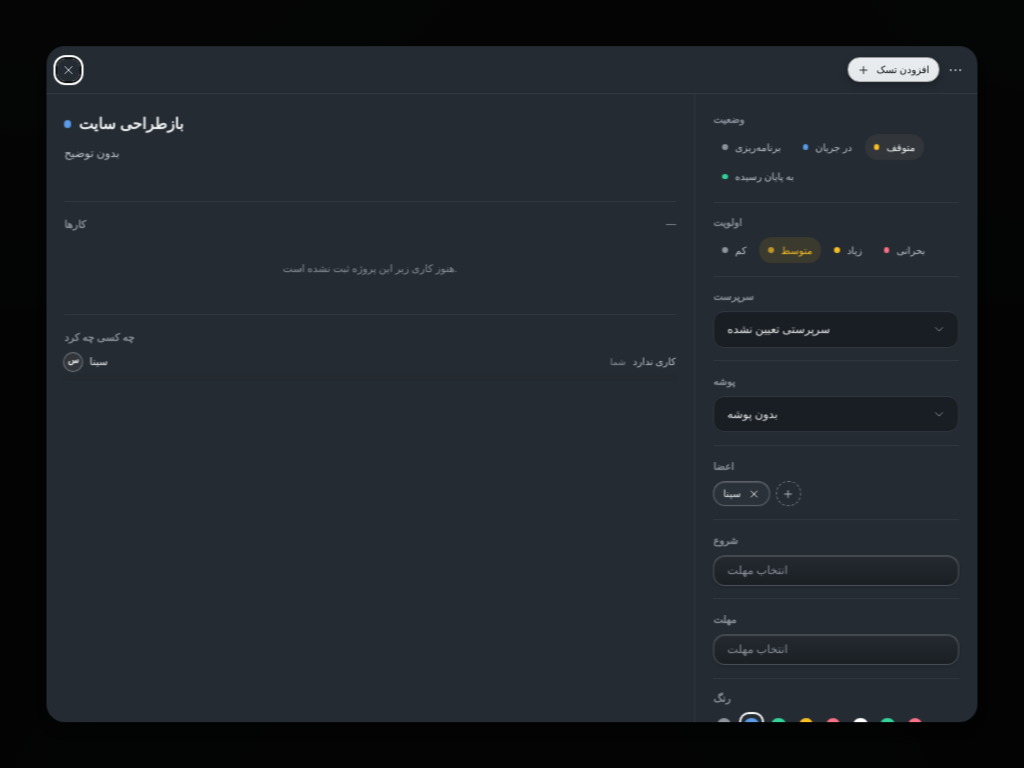
Test: the project is edited in its own panel (2026-09-08) › shows an ADMIN who did not make it the readings too, and the OWNER the controls (db/0227)
Expected: the button "متوقف" is shown, [865,134,925,160]
Expected: the button "افزودن تسک" is shown, [847,57,939,82]
Click the button named "بیشتر": [956, 70] box [945,59,967,81]
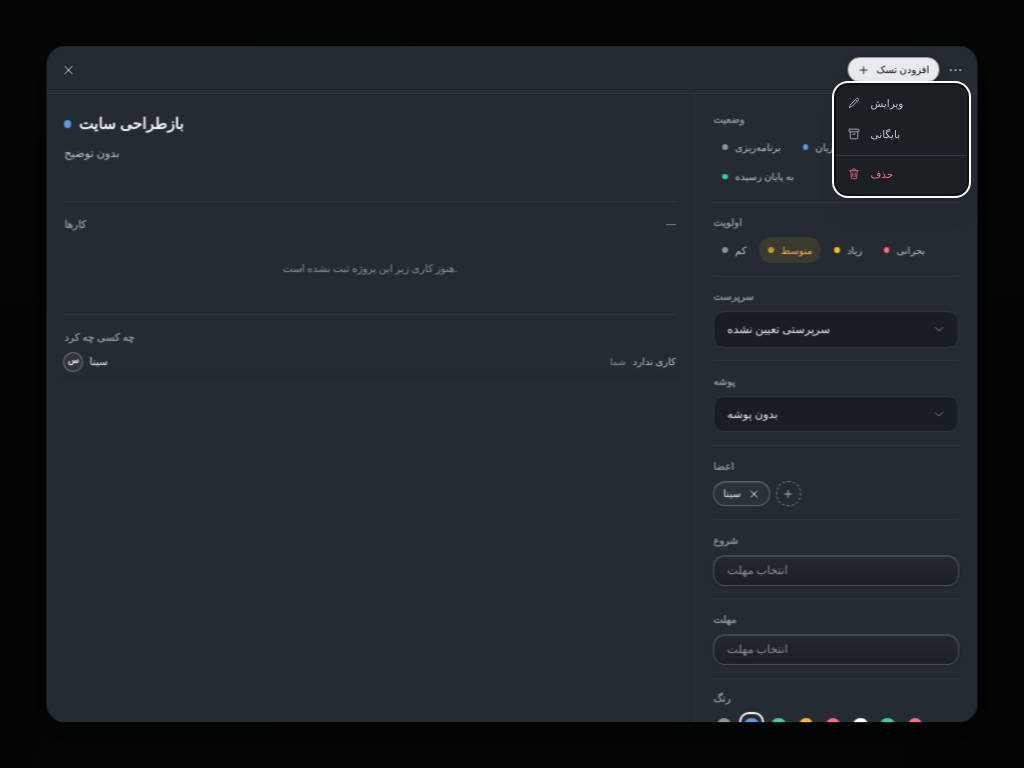
Expected: the menu item "ویرایش" is shown, [847,96,903,110]
